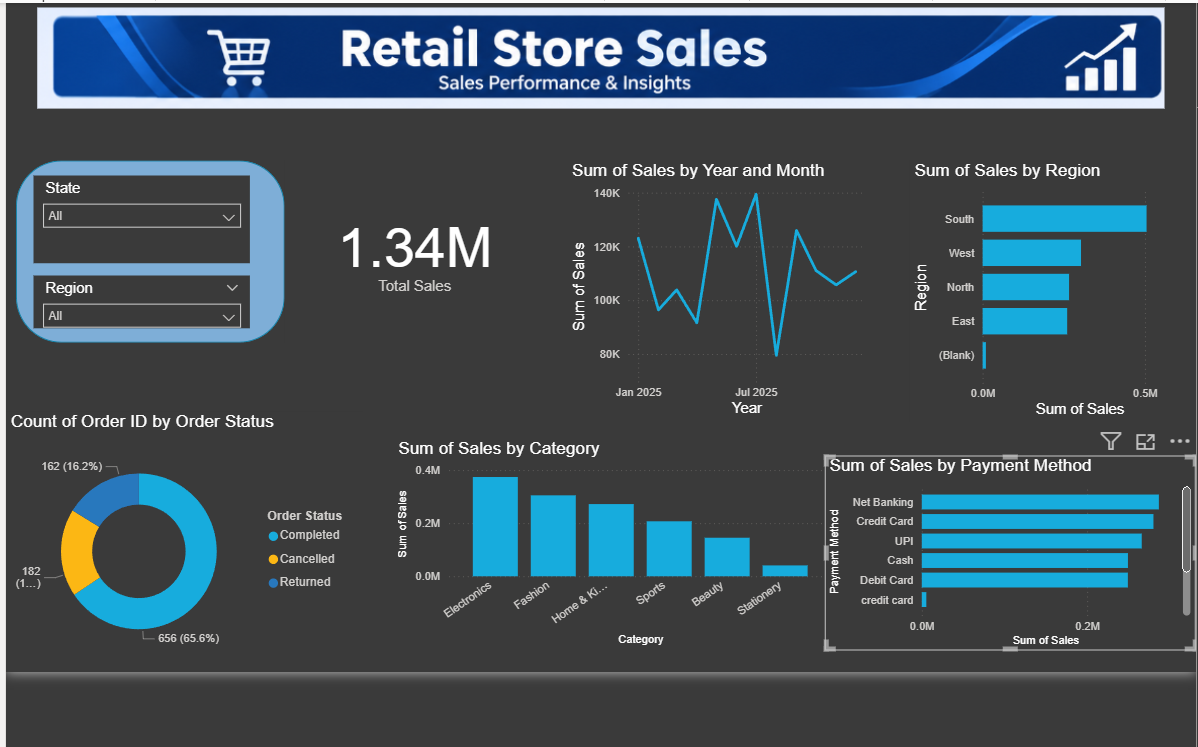

The dashboard page shown, as its layout file describes it:
{"tool":"powerbi","page":{"name":"Page 1","canvas":[1280,720],"ordinal":0},"visuals":[{"type":"card","fields":{"Values":["Orders.Total Sales"]},"box":[300,170,280,195.7],"z":0},{"type":"donutChart","fields":{"Category":["Orders.Order Status"],"Y":["CountNonNull(Orders.Order ID)"]},"box":[0,440,384.3,280],"z":1000},{"type":"clusteredColumnChart","fields":{"Category":["Products.Category"],"Y":["Sum(Orders.Sales)"]},"box":[417.1,468.6,477.1,228.6],"z":2000},{"type":"clusteredBarChart","fields":{"Y":["Sum(Orders.Sales)"],"Category":["Customers.Region"]},"box":[972.9,170,307.1,281.4],"z":3000},{"type":"lineChart","fields":{"Y":["Sum(Orders.Sales)"],"Category":["Orders.Order Date.Variation.Date Hierarchy.Year","Orders.Order Date.Variation.Date Hierarchy.Month"]},"box":[604.3,170,338.6,280],"z":4000},{"type":"clusteredBarChart","fields":{"Category":["Orders.Payment Method"],"Y":["Sum(Orders.Sales)"]},"box":[881.4,487.1,398.6,210],"z":5000},{"type":"textbox","box":[11.4,0,1241.4,154.3],"z":6000},{"type":"image","box":[0,0,1280,118.6],"z":7000},{"type":"shape","box":[11,170,289,196],"z":8000},{"type":"slicer","fields":{"Values":["Orders.Order ID"]},"box":[30,185.7,232.9,94.3],"z":9000},{"type":"slicer","fields":{"Values":["Customers.Region"]},"box":[30,292.9,232.9,57.1],"z":10000}]}

Visuals, with their boxes on the page's 1280x720 design canvas (x1, y1, x2, y2). These are canvas units, not pixel positions in the 1198x747 screenshot, which may show the page scaled, cropped or inside an application window:
card - Orders.Total Sales: <box>300,170,580,366</box>
donutChart - Orders.Order Status x CountNonNull(Orders.Order ID): <box>0,440,384,720</box>
clusteredColumnChart - Products.Category x Sum(Orders.Sales): <box>417,469,894,697</box>
clusteredBarChart - Sum(Orders.Sales) x Customers.Region: <box>973,170,1280,451</box>
lineChart - Sum(Orders.Sales) x Orders.Order Date.Variation.Date Hierarchy.Year: <box>604,170,943,450</box>
clusteredBarChart - Orders.Payment Method x Sum(Orders.Sales): <box>881,487,1280,697</box>
textbox: <box>11,0,1253,154</box>
image: <box>0,0,1280,119</box>
shape: <box>11,170,300,366</box>
slicer - Orders.Order ID: <box>30,186,263,280</box>
slicer - Customers.Region: <box>30,293,263,350</box>
